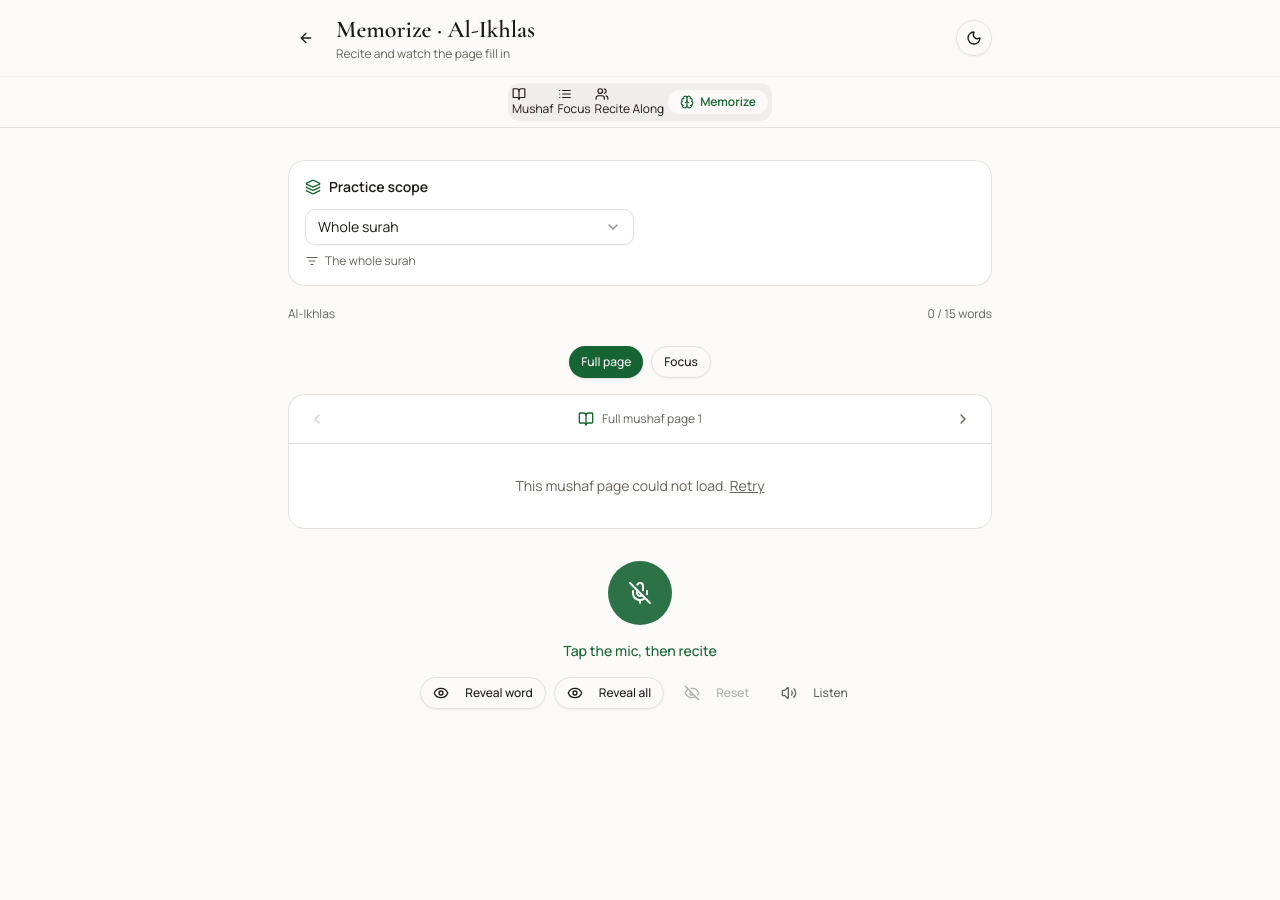
Test: ordinary silence does not exhaust the failure budget
Click the button with test id "memorize-view-focus" at (681, 362), box [651,346,711,378]
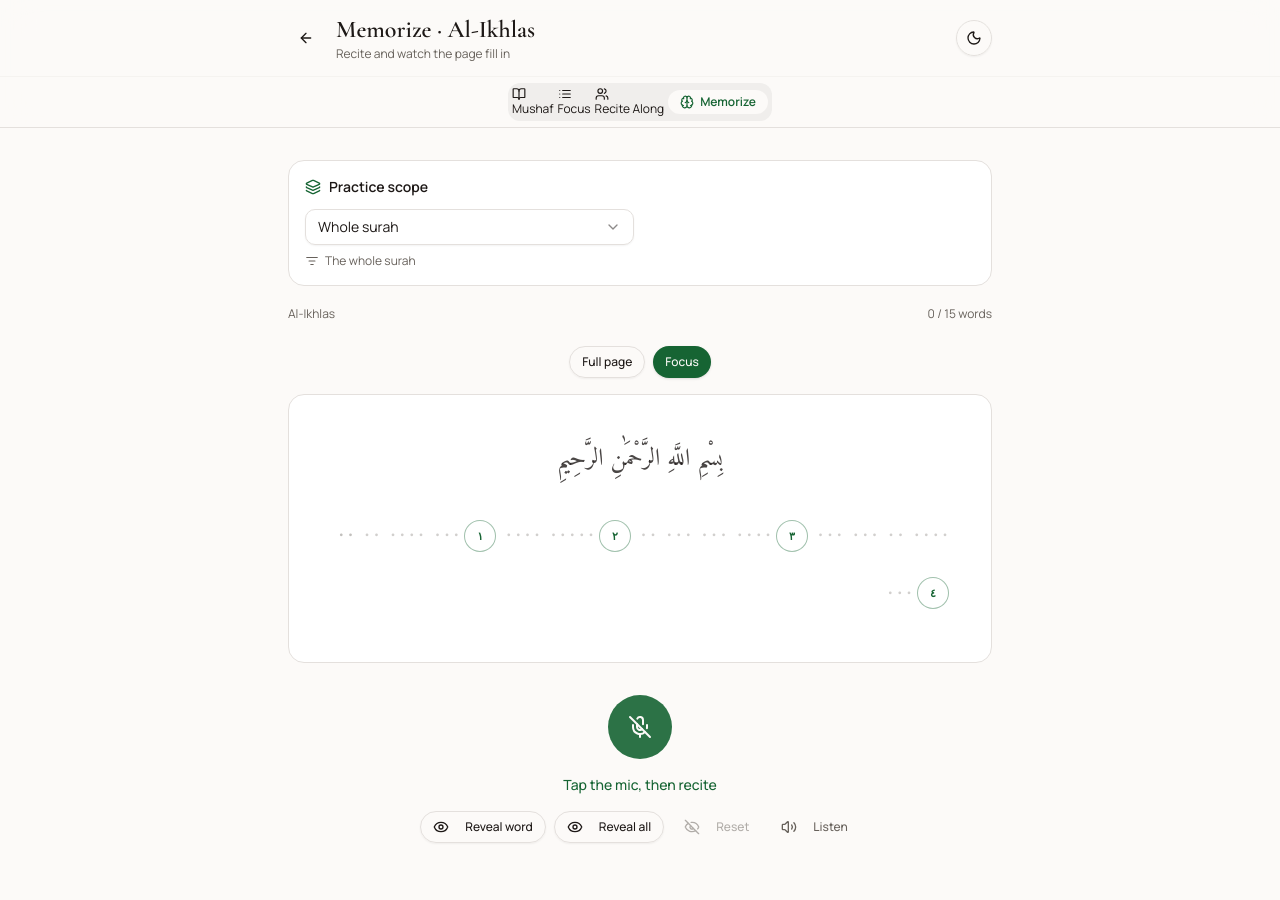
Click the button named "Start reciting" at (640, 727), box [608,695,672,759]
Wait 7000 ms
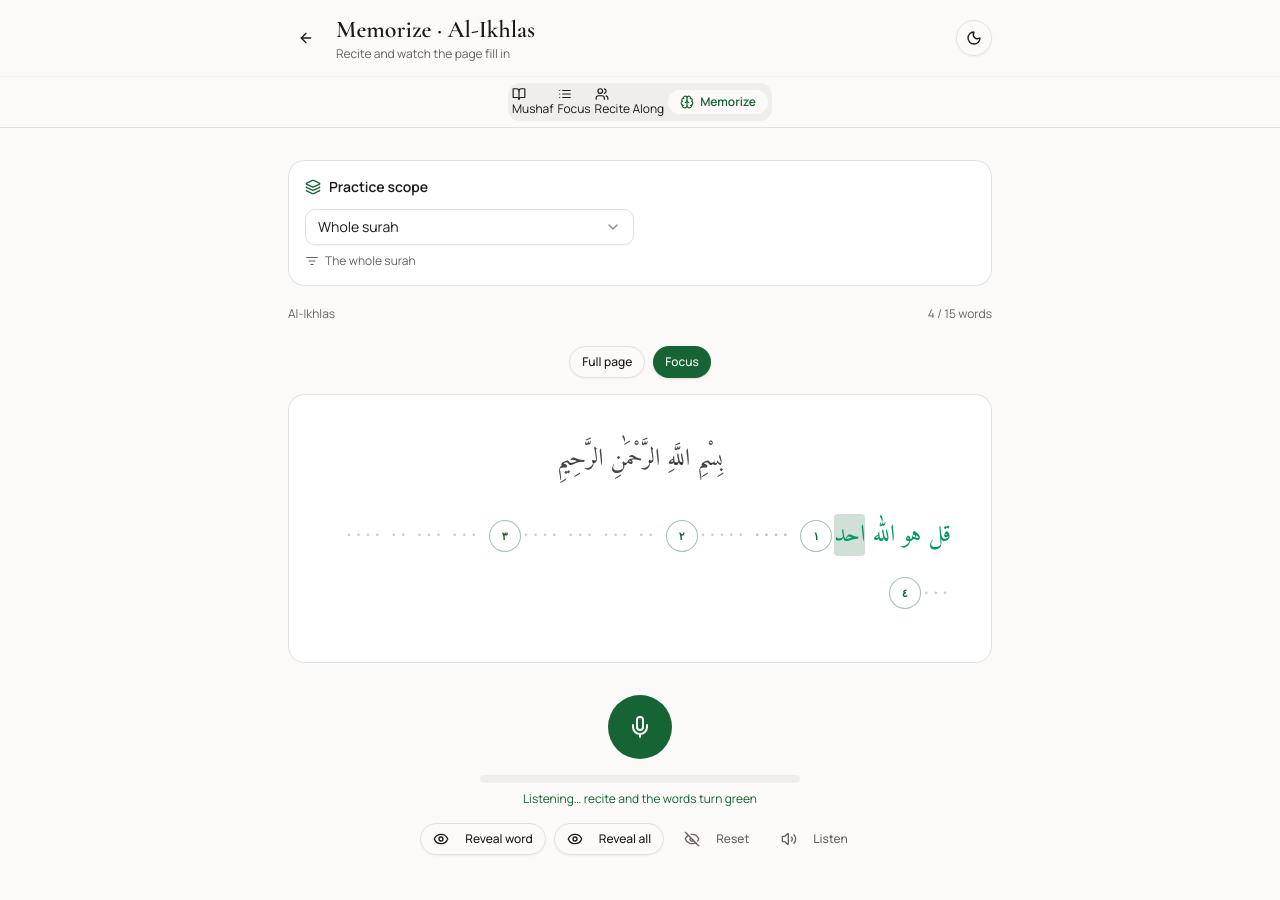
Check: the text "احد" is shown, box [834,514,865,556]
